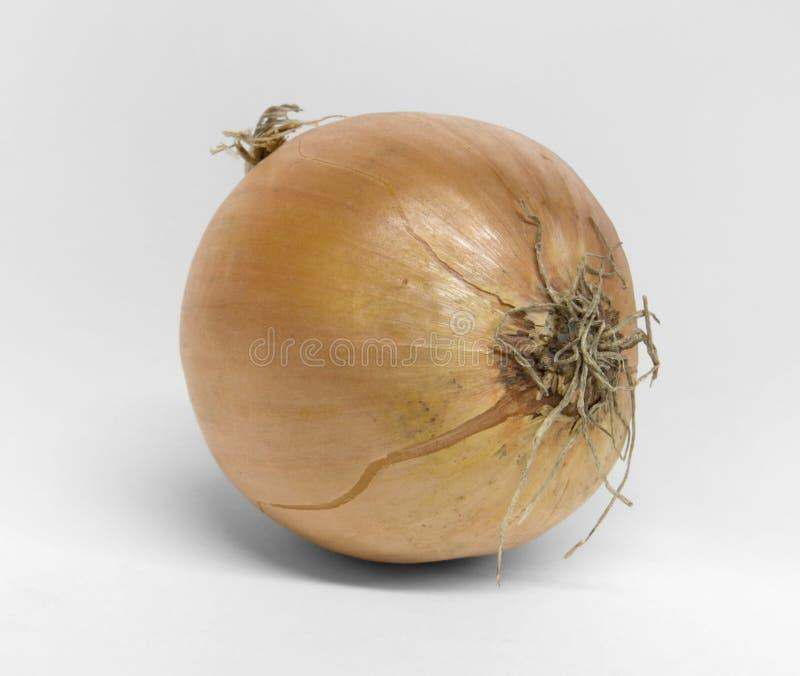Onion: (180, 113, 658, 562)
